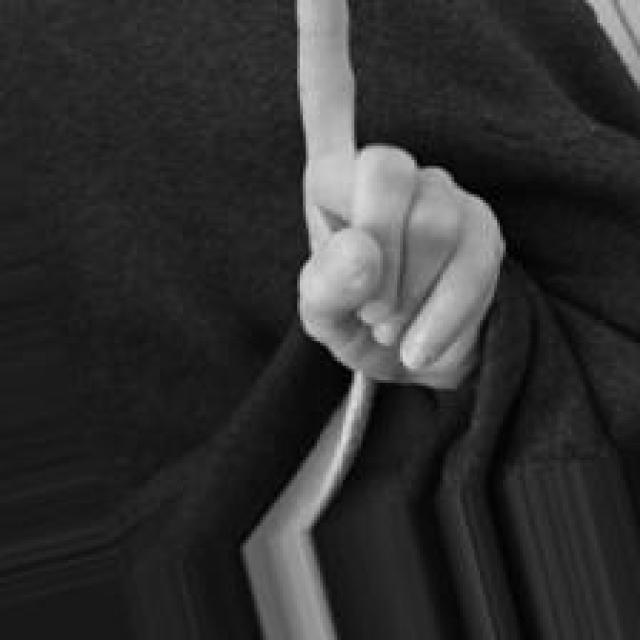I: (281, 0, 511, 398)
